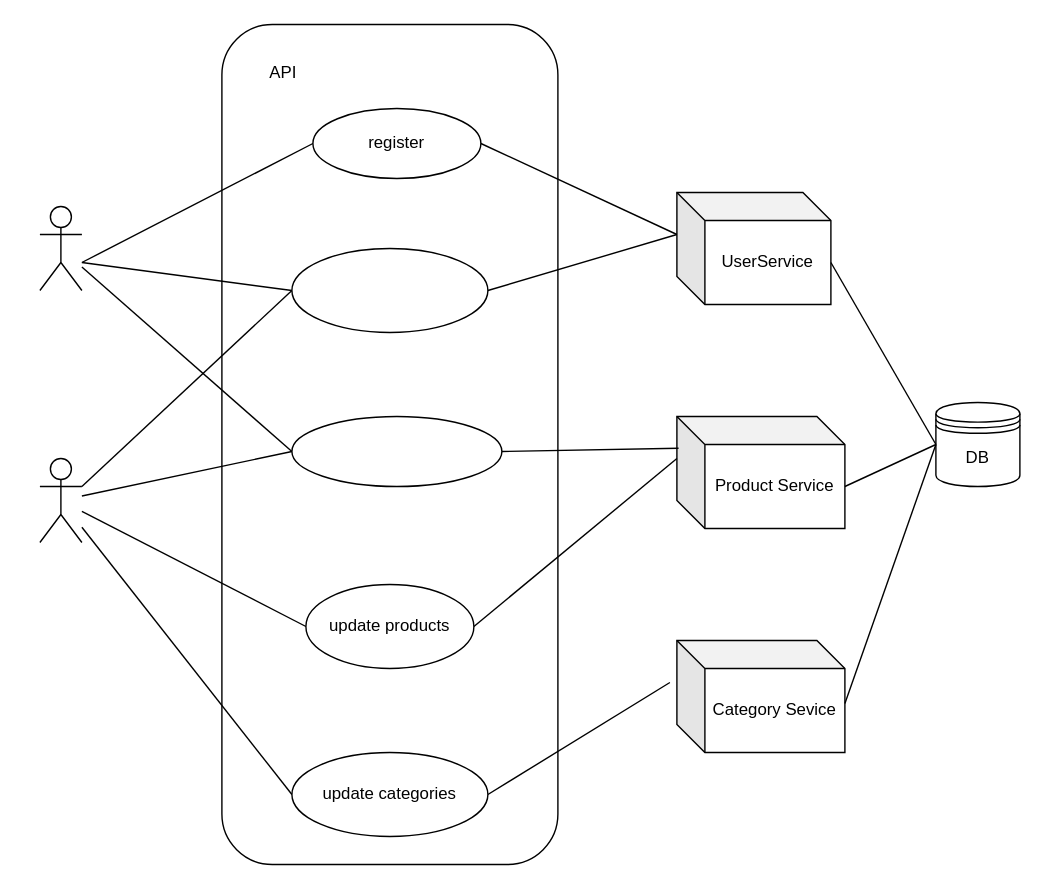
The diagram is 1044 pixels wide and 889 high, and some of its shapes have lost their labels. Here are the shapes that lost their labels. From the top down, the centre of each, then its label:
(60,247): Customer
(389,289): login/logout
(396,450): search products
(60,499): Admin
